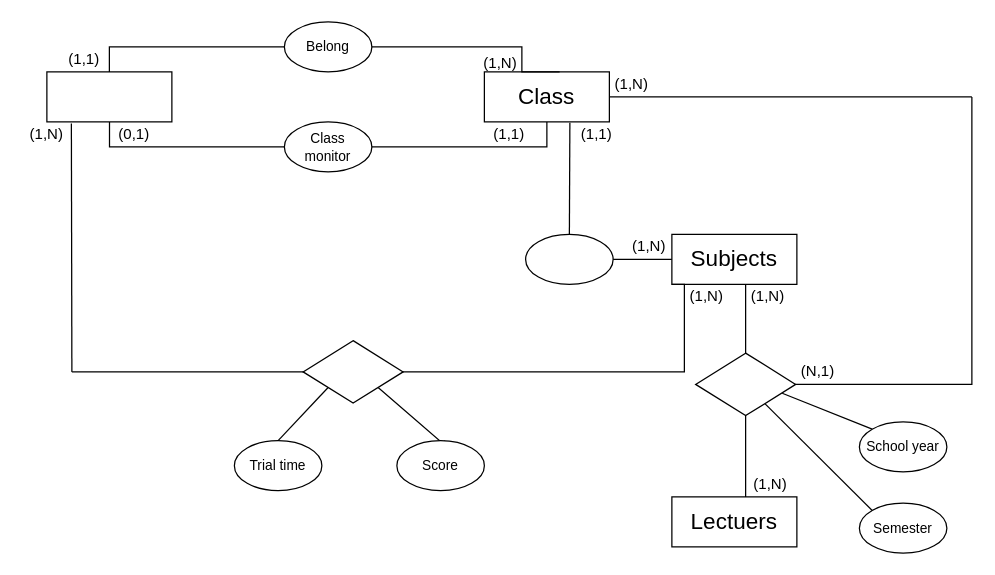
This 995x575 diagram has some shape labels left out. Here are the shapes that lost their labels. From the top down, the centre of each, then its label:
At point 109,96: "Student".
At point 568,258: "Learn".
At point 352,371: "Exam".
At point 745,384: "Teaching".
